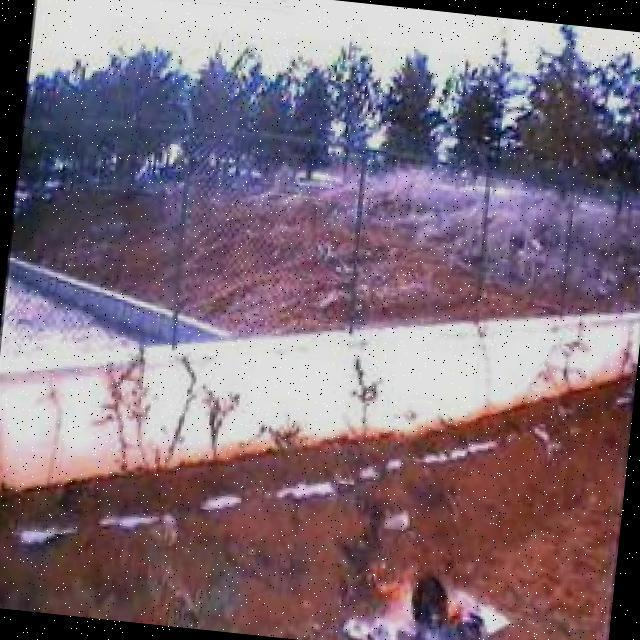Fire: (365, 557, 486, 640)
